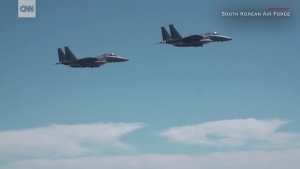flight: (155, 24, 234, 49), (54, 46, 130, 69)
